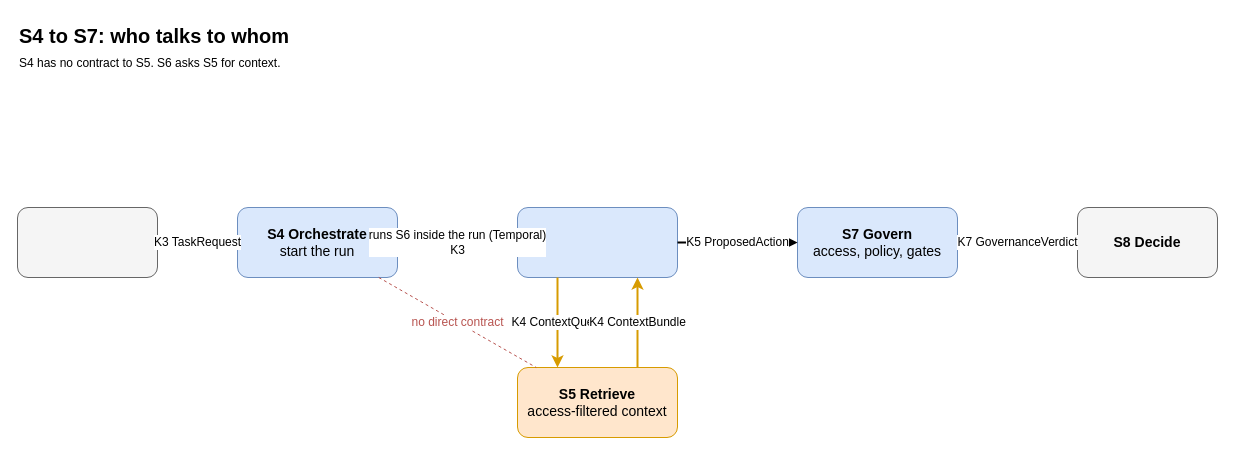
The diagram is 1235 pixels wide and 455 high, and some of its shapes have lost their labels. The shapes that lost their labels are listed below. From the top down, each one's centre as x and y in pixels, then its label:
the point at 87,242: S3 Route
the point at 597,242: S6 Reason plan and propose
